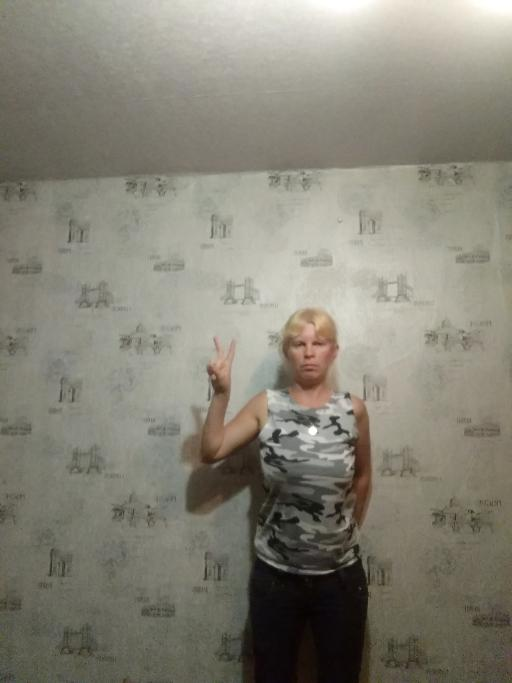peace: (204, 332, 238, 395)
